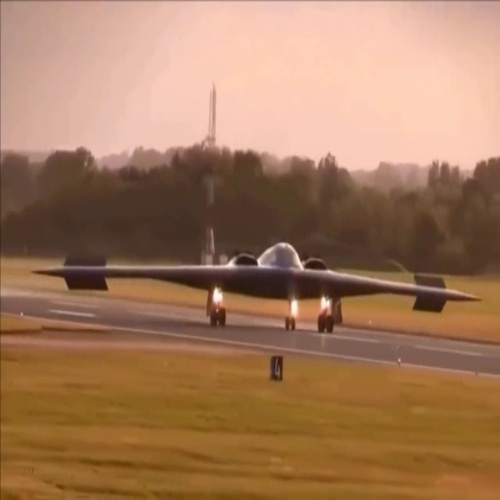uav: (13, 236, 483, 341)
